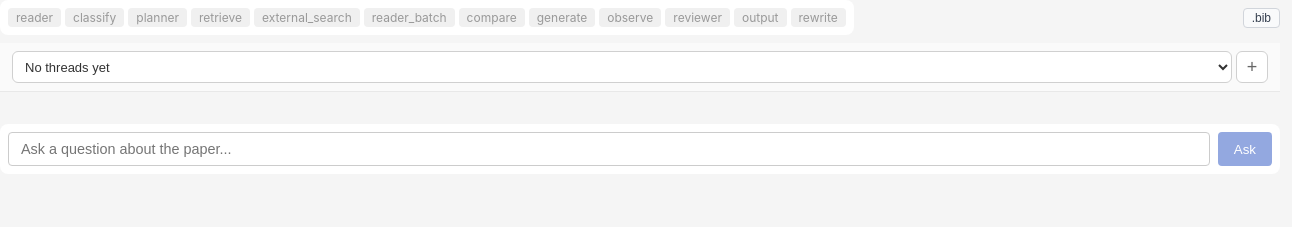
Scenario: ChatPanel two-segment SSE flow › sends user message and starts SSE on send
Type "What is this about?" into the field with placeholder "Ask a question about the paper..." at (609, 149), box [8,132,1210,166]
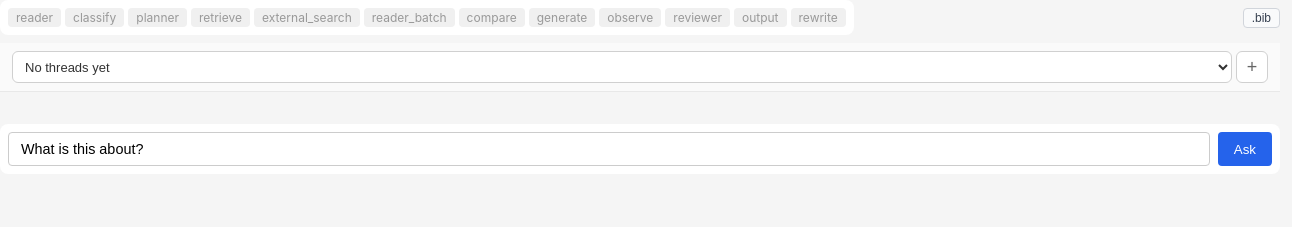
Click the button "Ask" at (1245, 149), box [1218,132,1272,166]
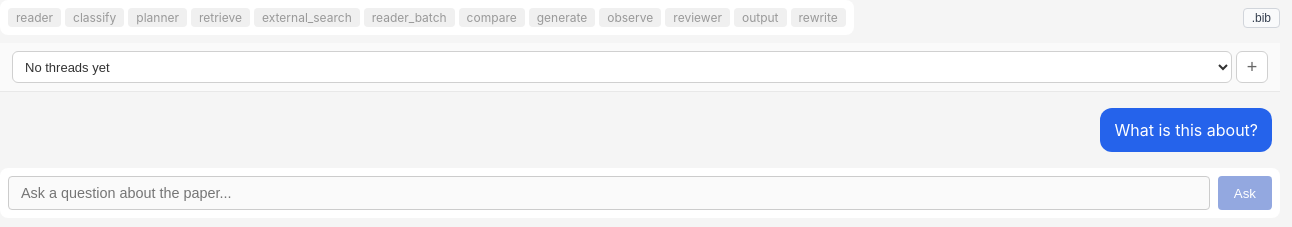
Expected: the text "What is this about?" is shown, [1100,108,1272,152]
